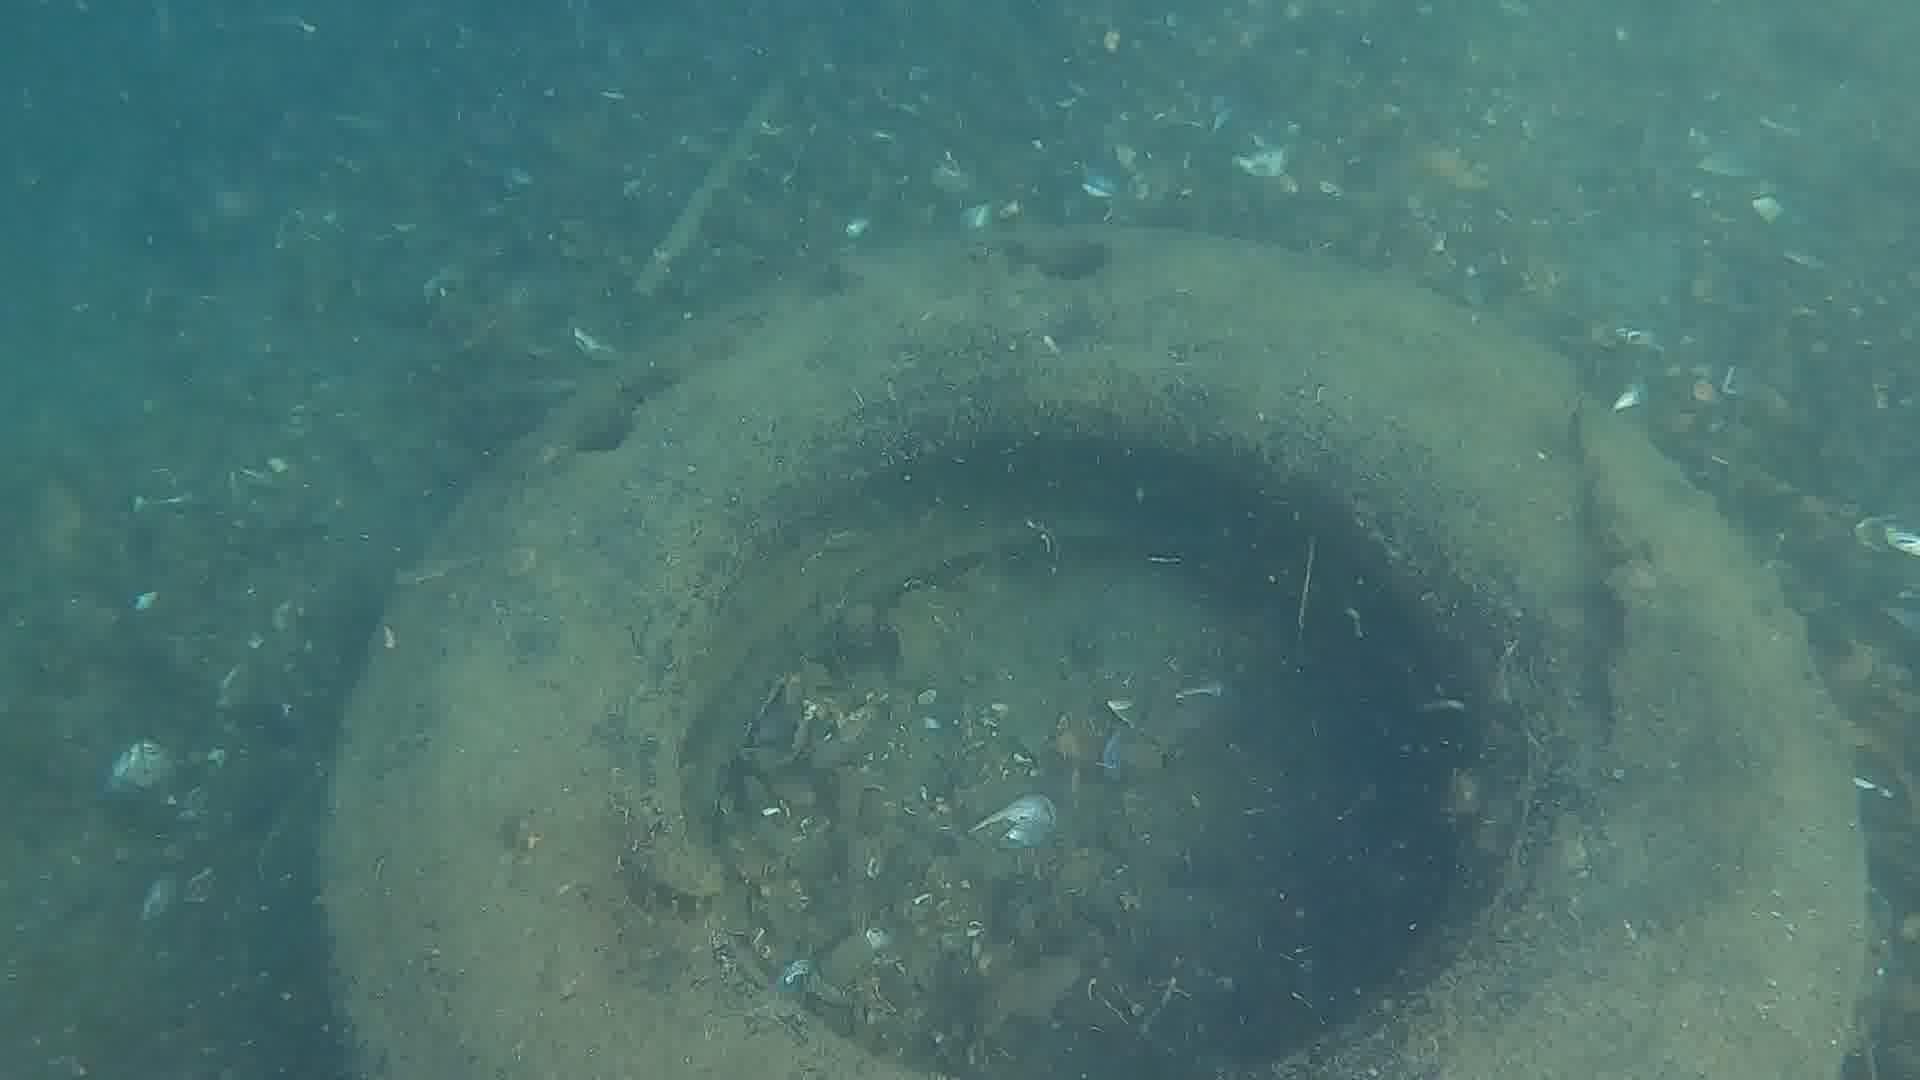tire: (316, 208, 1863, 1080)
